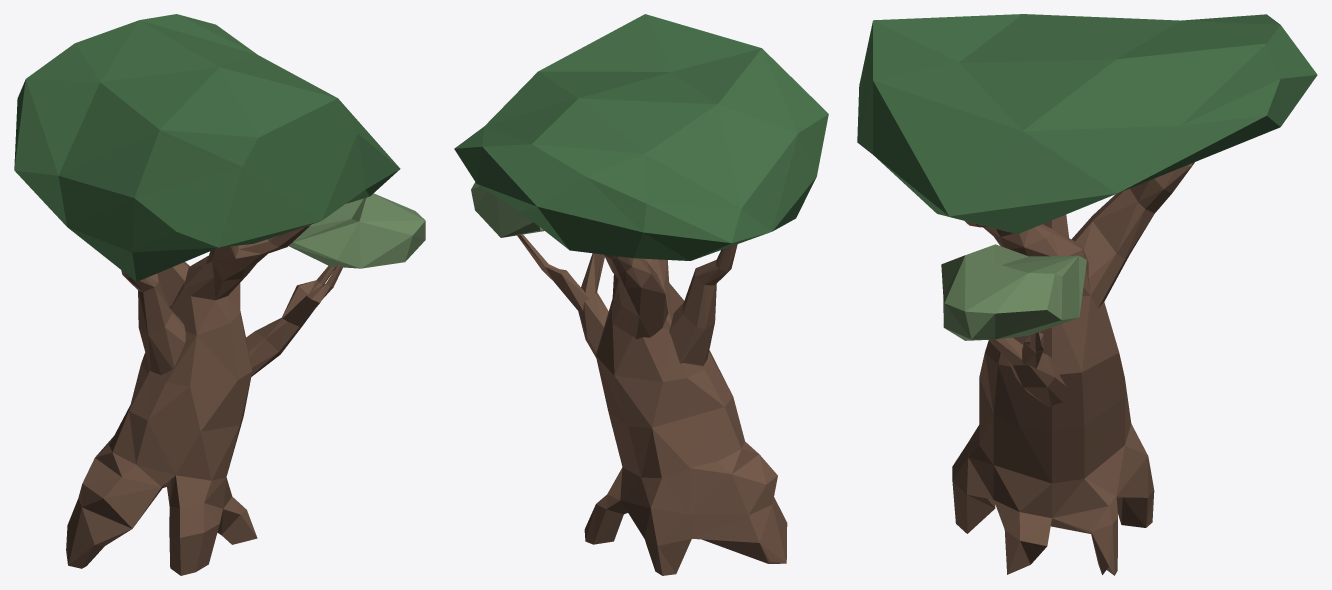
File: _tree_17.fbx
3 renders of one model, left to right at view 1: azimuth 30°, elevation 25°; view 2: azimuth 150°, elevation 25°; view 3: azimuth 270°, elevation 25°, orthographic. The views are drawn at different scales.
Visible parts, largest first — view 1: tree_17; view 2: tree_17; view 3: tree_17.
Boxes of the visible parts, x1,y1,x2,y2 form: tree_17: (14,14,425,575); tree_17: (454,14,828,575); tree_17: (857,14,1317,575).
Bounding box in the file's own units: 764 × 995 × 789.
